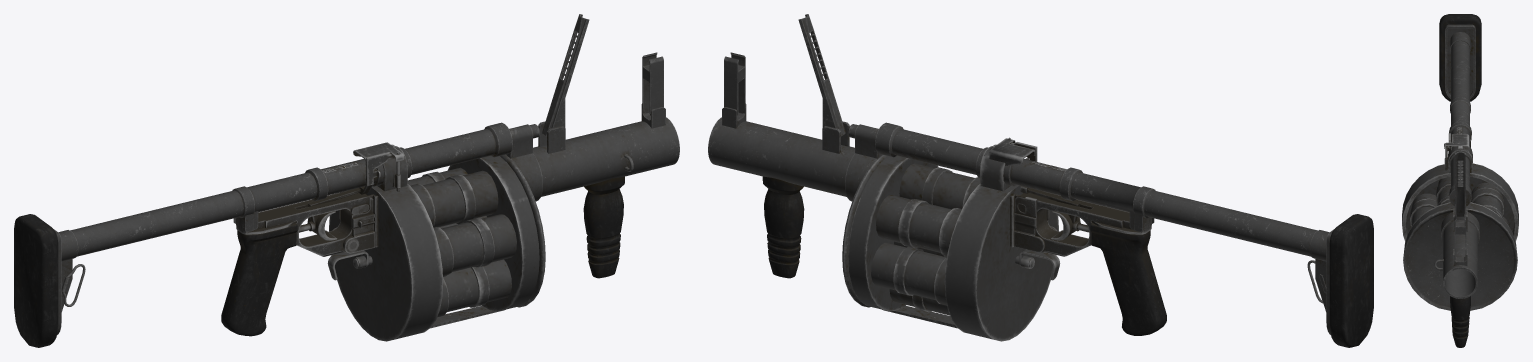
3 renders of one model, left to right at view 1: azimuth 30°, elevation 25°; view 2: azimuth 150°, elevation 25°; view 3: azimuth 270°, elevation 25°, orthographic. The views are drawn at different scales.
Parts seen in each view (by area): view 1: RG6.001; view 2: RG6.001; view 3: RG6.001.
Part boxes in pixels (left/top/right/bottom): RG6.001: left=14, top=14, right=679, bottom=347; RG6.001: left=708, top=14, right=1373, bottom=347; RG6.001: left=1402, top=14, right=1518, bottom=347.
Bounding box in the file's own units: 462 × 188 × 104.
